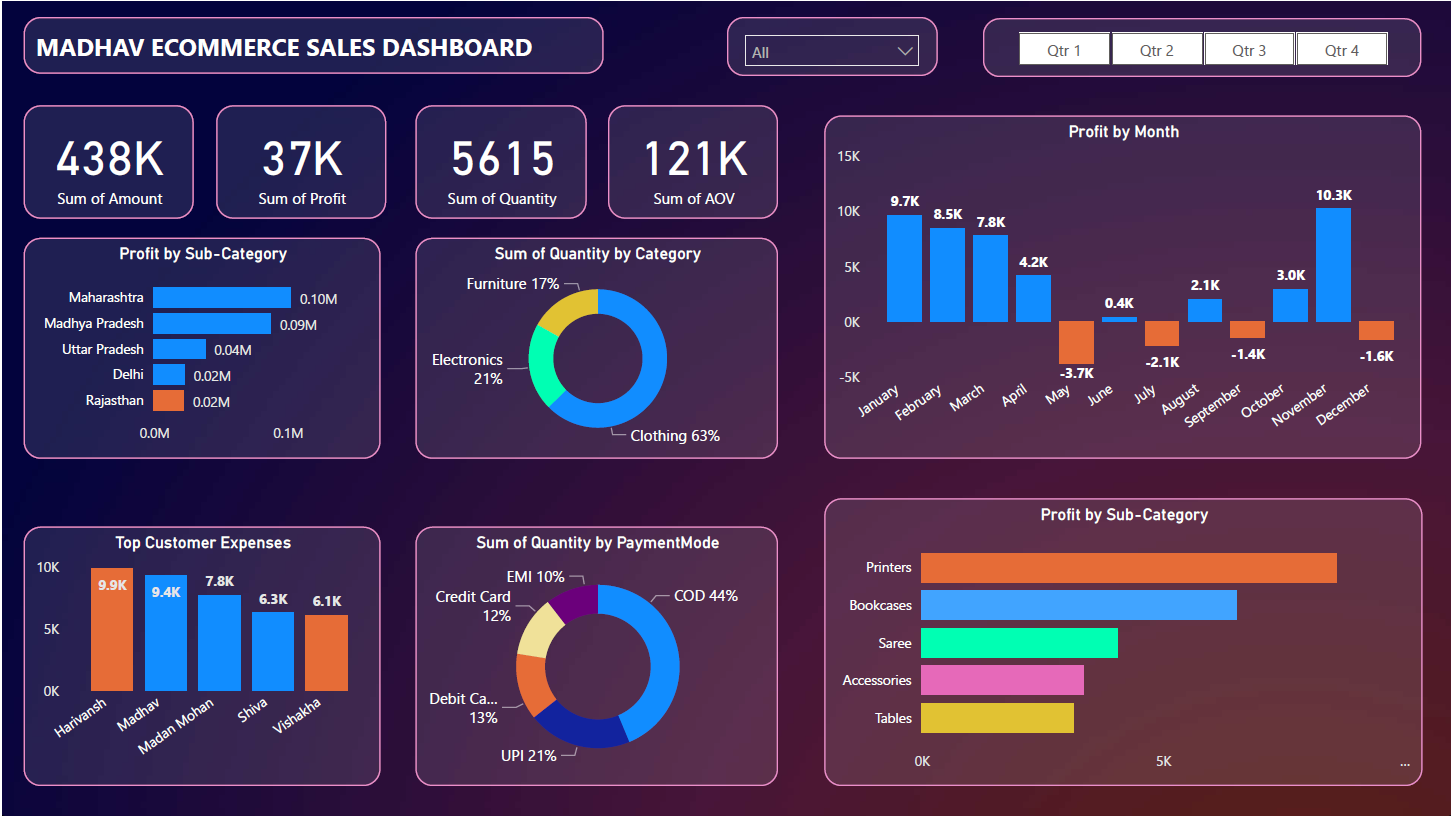

Layout of this report page (visuals, bound fields, positions):
{"tool":"powerbi","page":{"name":"Madhav Ecommerce Sales","canvas":[1280,720],"ordinal":0},"visuals":[{"type":"textbox","box":[19.5,13.6,511.6,50.6],"z":0},{"type":"columnChart","title":"Profit by Month","fields":{"Category":["Orders.Order Date.Variation.Date Hierarchy.Month"],"Y":["Details.Profit"]},"box":[725.6,101.2,527.2,302.5],"z":1000},{"type":"barChart","title":"Profit by Sub-Category","fields":{"Category":["Details.Sub-Category"],"Y":["Details.Profit"]},"box":[725.6,438.7,528.1,254.8],"z":2000},{"type":"donutChart","fields":{"Y":["Details.Quantity"],"Category":["Details.PaymentMode"]},"box":[364.7,464,320,229.5],"z":3000},{"type":"donutChart","fields":{"Category":["Details.Category"],"Y":["Details.Quantity"]},"box":[364.7,209.1,320,194.5],"z":4000},{"type":"card","fields":{"Values":["Details.Amount"]},"box":[19.5,91.7,150,100.2],"z":5000},{"type":"barChart","title":"Profit by Sub-Category","fields":{"Category":["Orders.State"],"Y":["Details.Amount"]},"box":[19.5,209.1,314.2,194.5],"z":6000},{"type":"columnChart","title":"Top Customer Expenses","fields":{"Category":["Orders.CustomerName"],"Y":["Details.Amount"]},"box":[19.5,464,314.2,229.5],"z":7000},{"type":"slicer","fields":{"Values":["Orders.Order Date.Variation.Date Hierarchy.Quarter"]},"box":[865.6,14.9,387.6,51.7],"z":8000},{"type":"card","fields":{"Values":["Details.AOV"]},"box":[535,91.7,149.8,100.2],"z":9000},{"type":"card","fields":{"Values":["Details.Profit"]},"box":[188.7,91.7,150.8,100.2],"z":10000},{"type":"card","fields":{"Values":["Details.Quantity"]},"box":[364.7,91.7,150.8,100.2],"z":11000},{"type":"slicer","fields":{"Values":["Orders.State"]},"box":[640,13.6,185.8,52.5],"z":12000}]}

Visuals, with their boxes in screenshot pixels (x1, y1, x2, y2), scaled from the page's 1280x720 canvas onto the 1451x816 screenshot:
textbox: Rect(22, 15, 602, 73)
"Profit by Month" columnChart: Rect(823, 115, 1420, 458)
"Profit by Sub-Category" barChart: Rect(823, 497, 1421, 786)
donutChart - Details.Quantity x Details.PaymentMode: Rect(413, 526, 776, 786)
donutChart - Details.Category x Details.Quantity: Rect(413, 237, 776, 457)
card - Details.Amount: Rect(22, 104, 192, 217)
"Profit by Sub-Category" barChart: Rect(22, 237, 378, 457)
"Top Customer Expenses" columnChart: Rect(22, 526, 378, 786)
slicer - Orders.Order Date.Variation.Date Hierarchy.Quarter: Rect(981, 17, 1421, 75)
card - Details.AOV: Rect(606, 104, 776, 217)
card - Details.Profit: Rect(214, 104, 385, 217)
card - Details.Quantity: Rect(413, 104, 584, 217)
slicer - Orders.State: Rect(726, 15, 936, 75)
